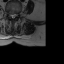CCS_severe_stenosis: (12, 11, 14, 20)
LFS_normal: (16, 11, 18, 18)
LLS_normal: (14, 11, 16, 19)
RFS_normal: (8, 11, 10, 19)
RLS_normal: (10, 11, 12, 20)
